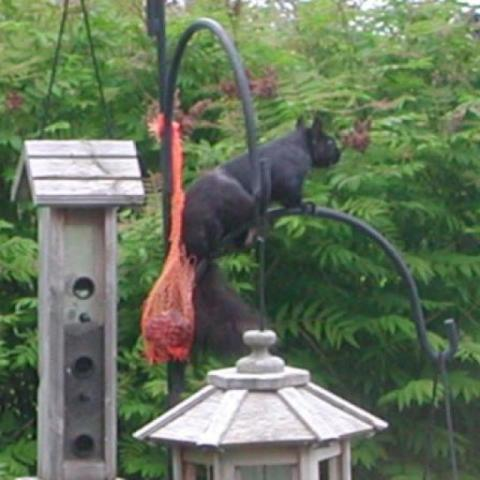small_animal: (179, 112, 341, 323)
